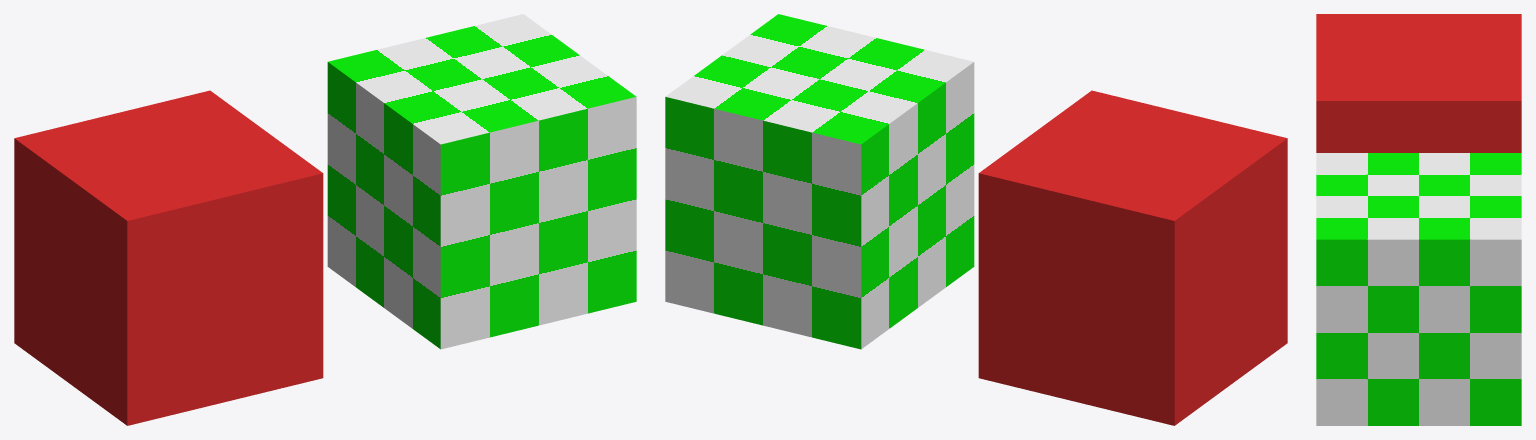
Rendered from materials.glb.
The picture shows the model from 3 angles, left to right: view 1: azimuth 30°, elevation 25°; view 2: azimuth 150°, elevation 25°; view 3: azimuth 270°, elevation 25°; orthographic projection. The views are drawn at different scales.
Bounding box in the file's own units: 2.6 × 1 × 1.
Materials: 2 (1 with a texture image).
